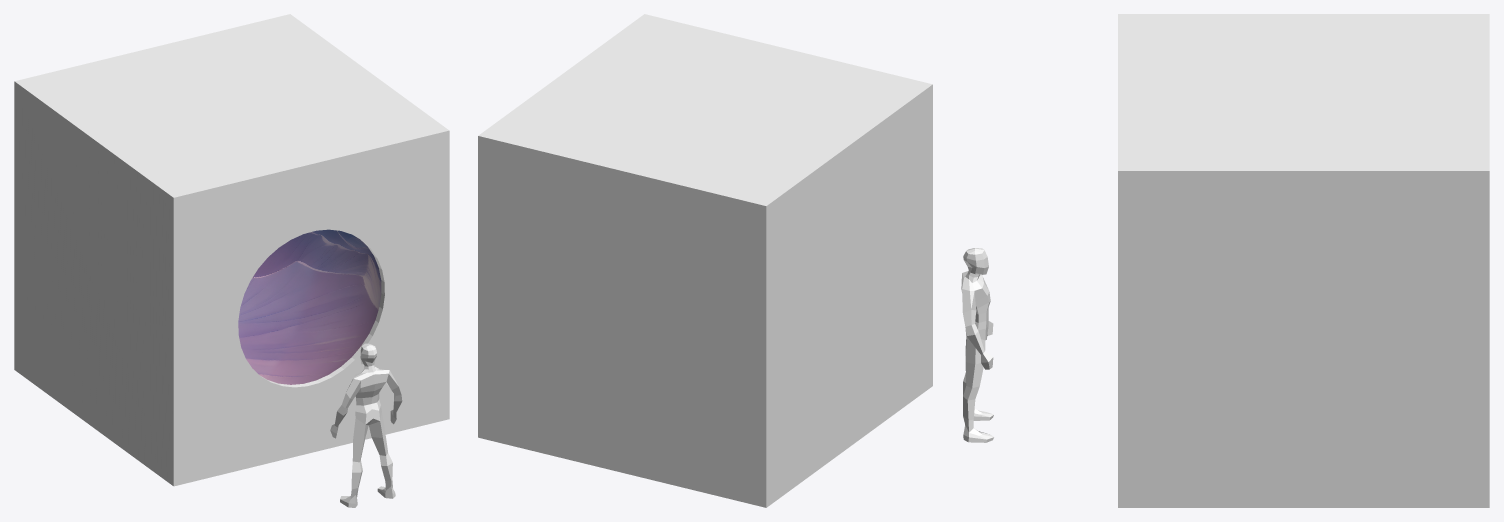
File: portal_room.glb
The picture shows the model from 3 angles, left to right: view 1: azimuth 30°, elevation 25°; view 2: azimuth 150°, elevation 25°; view 3: azimuth 270°, elevation 25°; orthographic projection. The views are drawn at different scales.
Parts seen in each view (by area): view 1: outer_wall_1, skybox_3, Human 1_5, window_2; view 2: outer_wall_1; view 3: outer_wall_1, Human 1_5.
Part boxes in pixels (bbox=[...]): outer_wall_1: bbox=[14, 14, 449, 486]; skybox_3: bbox=[238, 229, 381, 384]; Human 1_5: bbox=[330, 343, 402, 507]; window_2: bbox=[261, 240, 384, 387]; outer_wall_1: bbox=[478, 14, 932, 507]; outer_wall_1: bbox=[1118, 14, 1489, 507]; Human 1_5: bbox=[961, 248, 993, 442].
Bounding box in the file's own units: 3.28 × 3.29 × 4.65.
Materials: 5 (1 with a texture image).
